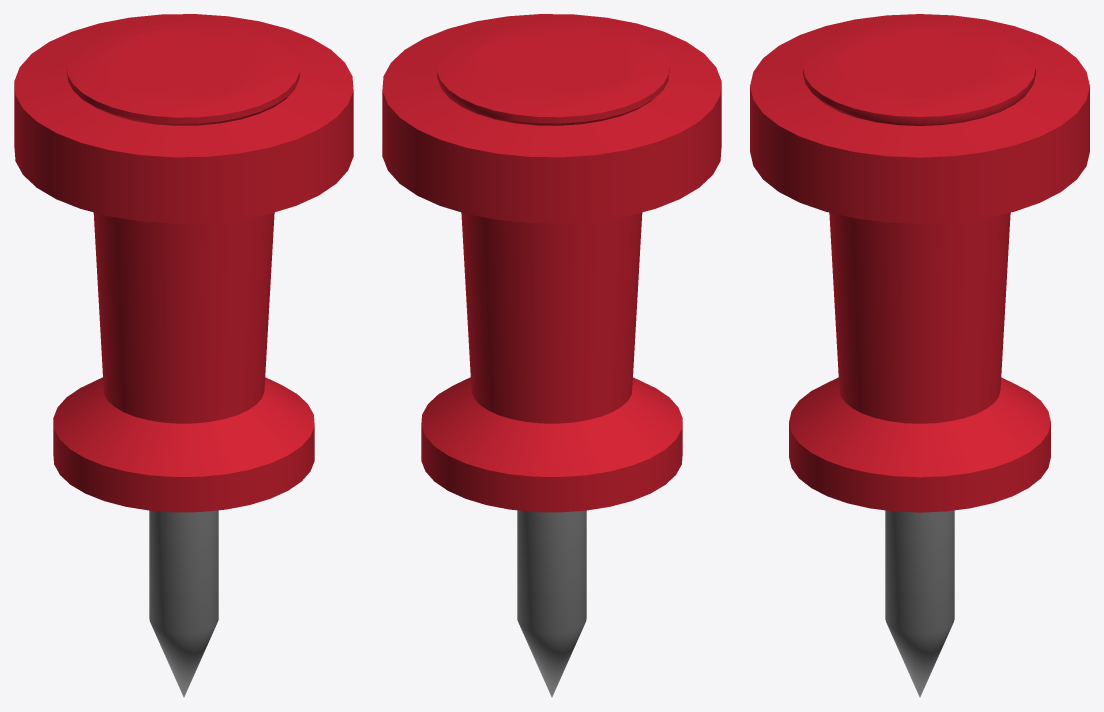
Rendered from Pin.fbx.
3 renders of one model, left to right at view 1: azimuth 30°, elevation 25°; view 2: azimuth 150°, elevation 25°; view 3: azimuth 270°, elevation 25°, orthographic.
Parts seen in each view (by area): view 1: Pin; view 2: Pin; view 3: Pin.
Part boxes in pixels (x1,y1,x2,y2): Pin: (14, 14, 353, 697); Pin: (382, 14, 721, 697); Pin: (750, 14, 1089, 697).
Bounding box in the file's own units: 7.04 × 14.49 × 7.04.
